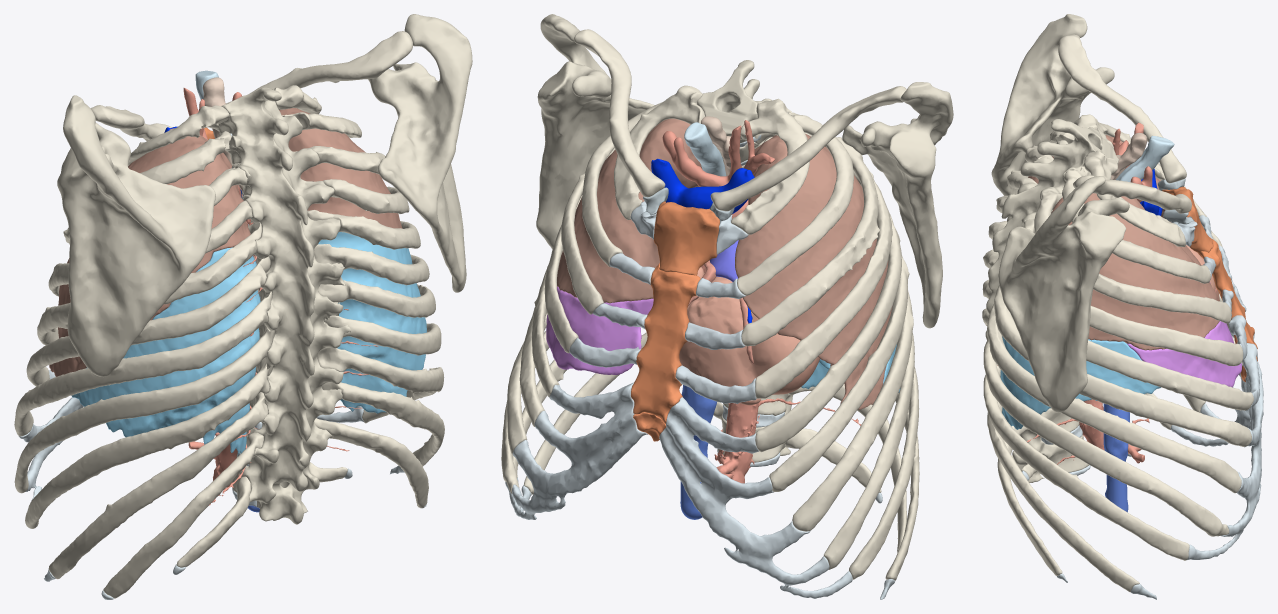
The model's file is openanatomy-thorax.glb.
3 views of the same model, side by side, from view 1: azimuth 30°, elevation 25°; view 2: azimuth 150°, elevation 25°; view 3: azimuth 270°, elevation 25° (orthographic). The views are drawn at different scales.
Visible parts, largest first — view 1: ribs, scapula, vertebra, inferior lobe of left lung, inferior lobe of right lung, clavicle, superior lobe of left lung, superior lobe of right lung, costal cartilages, aorta, esophagus; view 2: ribs, costal cartilages, scapula, superior lobe of left lung, clavicle, superior lobe of right lung, body of sternum, heart, aorta, middle lobe of right lung, vertebra, manubrium of sternum (+8 smaller); view 3: ribs, scapula, vertebra, superior lobe of right lung, costal cartilages, clavicle, inferior lobe of right lung, middle lobe of right lung, aorta, inferior vena cava, body of sternum, trachea (+3 smaller).
Boxes of the visible parts, bbox=[...] form: ribs: bbox=[14, 85, 444, 598]; scapula: bbox=[57, 14, 472, 376]; vertebra: bbox=[218, 87, 350, 524]; inferior lobe of left lung: bbox=[71, 247, 260, 454]; inferior lobe of right lung: bbox=[318, 232, 426, 413]; clavicle: bbox=[90, 31, 412, 140]; superior lobe of left lung: bbox=[49, 135, 250, 376]; superior lobe of right lung: bbox=[279, 108, 402, 228]; costal cartilages: bbox=[18, 370, 426, 599]; aorta: bbox=[169, 88, 378, 505]; esophagus: bbox=[202, 77, 258, 291]; ribs: bbox=[501, 85, 919, 580]; costal cartilages: bbox=[505, 201, 895, 599]; scapula: bbox=[536, 14, 953, 328]; superior lobe of left lung: bbox=[735, 134, 892, 409]; clavicle: bbox=[574, 29, 906, 211]; superior lobe of right lung: bbox=[557, 118, 723, 303]; body of sternum: bbox=[631, 263, 700, 423]; heart: bbox=[679, 267, 819, 405]; aorta: bbox=[662, 120, 861, 483]; middle lobe of right lung: bbox=[546, 286, 653, 374]; vertebra: bbox=[696, 60, 792, 462]; manubrium of sternum: bbox=[654, 201, 719, 275]; ribs: bbox=[982, 114, 1253, 592]; scapula: bbox=[991, 14, 1129, 412]; vertebra: bbox=[985, 119, 1118, 482]; superior lobe of right lung: bbox=[1051, 193, 1219, 350]; costal cartilages: bbox=[1022, 215, 1263, 599]; clavicle: bbox=[1058, 34, 1191, 213]; inferior lobe of right lung: bbox=[1000, 336, 1160, 429]; middle lobe of right lung: bbox=[1126, 282, 1241, 387]; aorta: bbox=[997, 122, 1152, 464]; inferior vena cava: bbox=[1103, 403, 1129, 512]; body of sternum: bbox=[1199, 239, 1257, 363]; trachea: bbox=[1115, 135, 1174, 182].
Bounding box in the file's own units: 0.3161 × 0.3718 × 0.2164.
